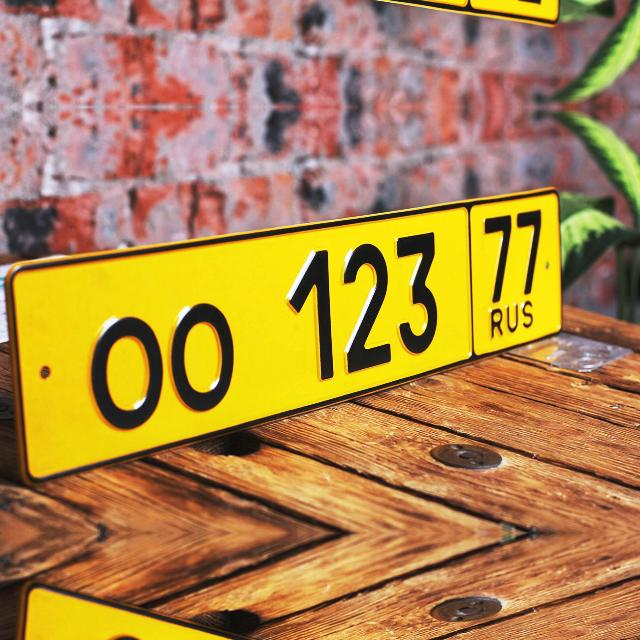taxi: (0, 178, 566, 509), (0, 555, 566, 640)
